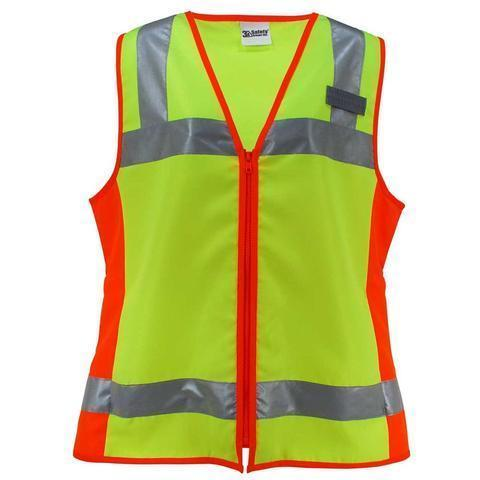vest: (76, 11, 410, 468)
